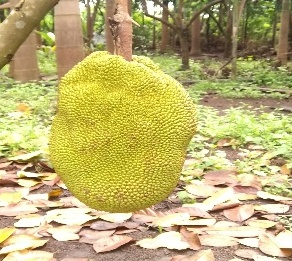Mit: (51, 52, 197, 214)
